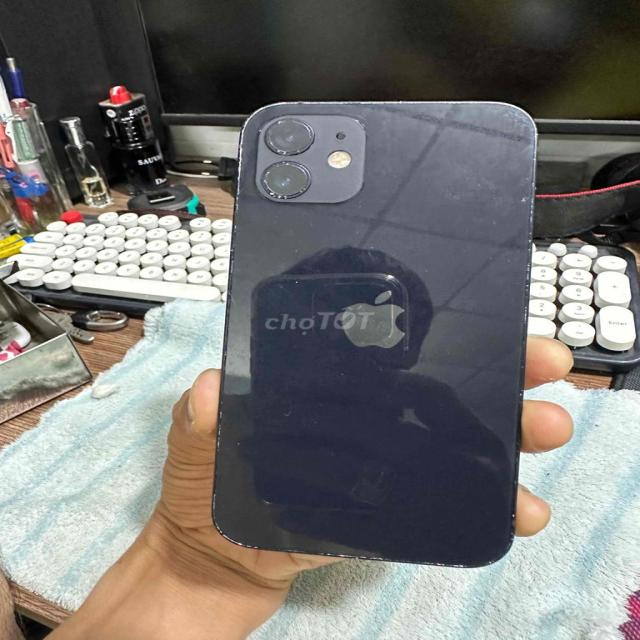scratch: (207, 503, 502, 581), (483, 108, 548, 443), (218, 96, 296, 318)
